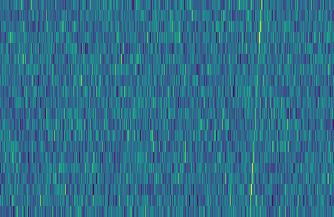signal: (246, 0, 268, 217)
